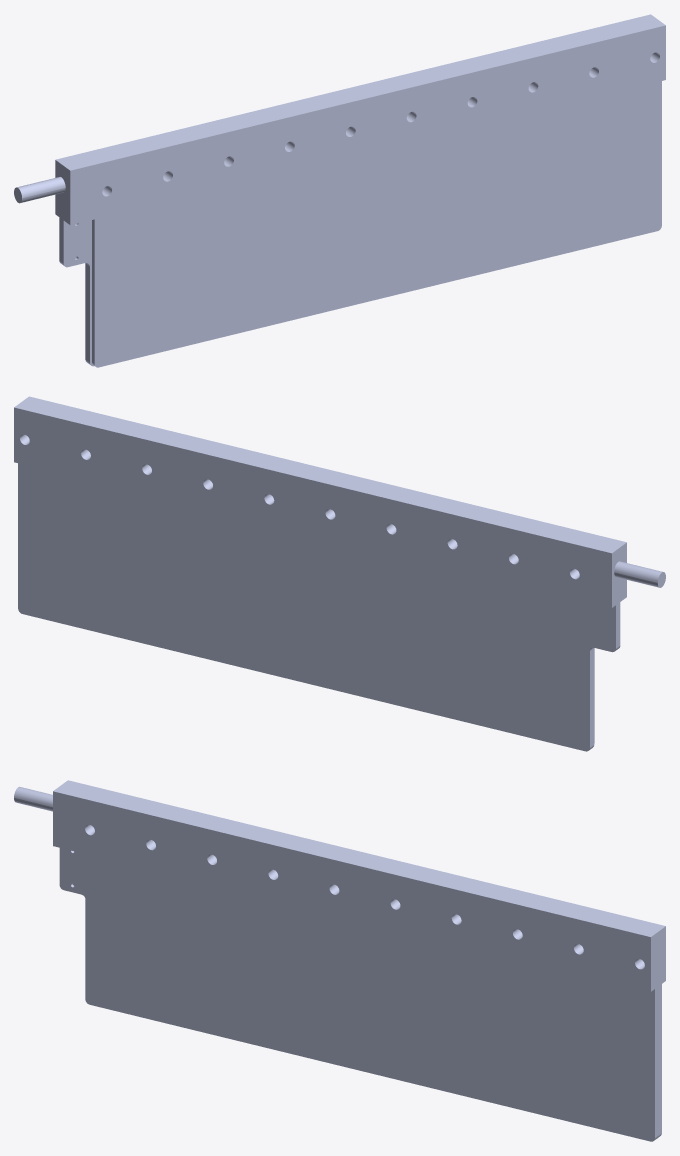
The model's file is MUB-9.glb.
3 views of the same model, one above another, from view 1: azimuth 30°, elevation 25°; view 2: azimuth 150°, elevation 25°; view 3: azimuth 330°, elevation 25° (orthographic).
Visible parts, largest first — view 1: MUB-9_node_1; view 2: MUB-9_node_1; view 3: MUB-9_node_1.
Boxes of the visible parts, bbox=[...] form: MUB-9_node_1: bbox=[14, 14, 665, 367]; MUB-9_node_1: bbox=[14, 396, 665, 751]; MUB-9_node_1: bbox=[14, 780, 665, 1141].
Size of the model in its own units: 294 by 91.3 by 12.
